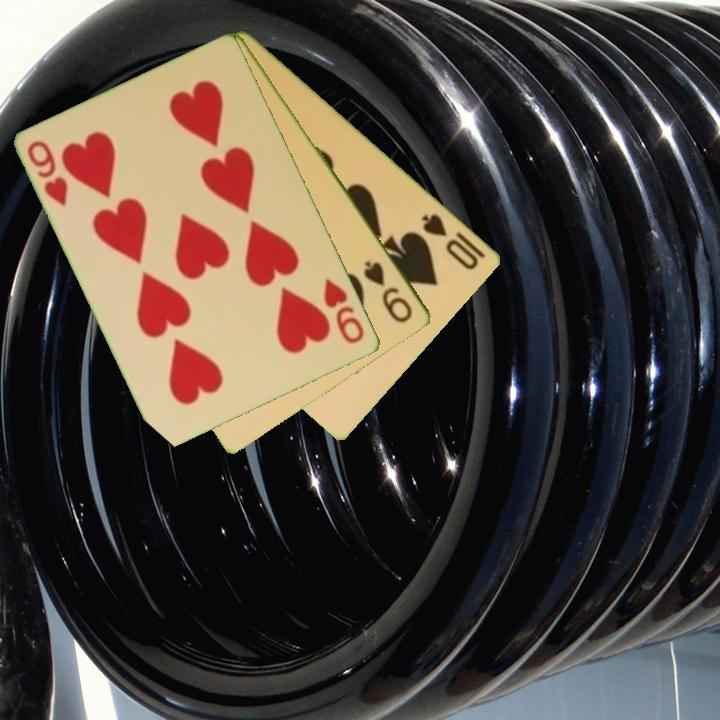10s: (418, 210, 482, 273)
9h: (320, 274, 368, 347), (24, 137, 72, 210)
9s: (360, 257, 416, 326)
